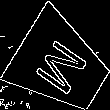M_SE: (29, 32, 93, 98)
